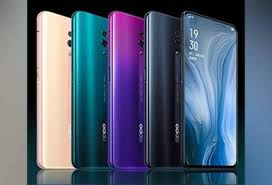oppo: (144, 10, 242, 172)
